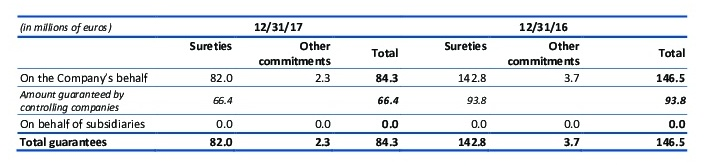table: (0, 0, 704, 166)
